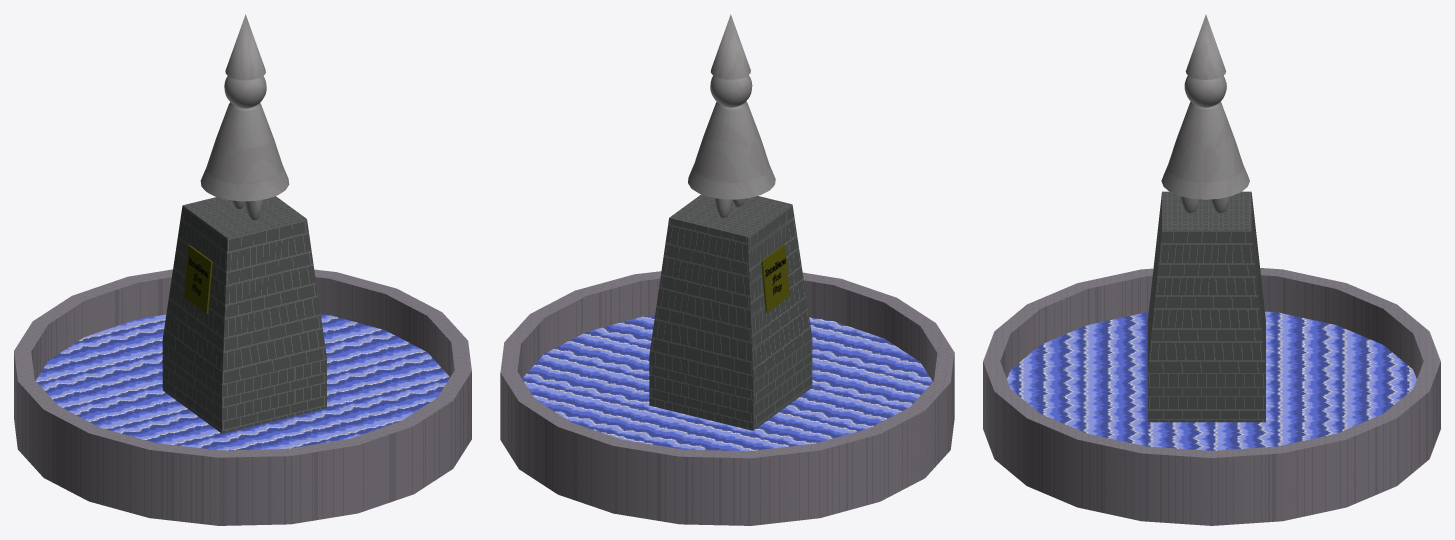
File: VilliageFountain.fbx
The picture shows the model from 3 angles, left to right: view 1: azimuth 30°, elevation 25°; view 2: azimuth 150°, elevation 25°; view 3: azimuth 270°, elevation 25°; orthographic projection.
Visible parts, largest first — view 1: FountainBase, FountainMonument, pCylinder1, StatueCloak, StatueHat, Plaque, Statue_Head; view 2: FountainBase, FountainMonument, pCylinder1, StatueCloak, StatueHat, Plaque, Statue_Head; view 3: FountainBase, pCylinder1, FountainMonument, StatueCloak, StatueHat, Statue_Head.
Boxes of the visible parts, x1,y1,x2,y2 form: FountainBase: [14, 269, 471, 525]; FountainMonument: [162, 196, 326, 433]; pCylinder1: [36, 314, 449, 450]; StatueCloak: [200, 102, 289, 201]; StatueHat: [225, 14, 265, 80]; Plaque: [184, 245, 212, 313]; Statue_Head: [224, 76, 266, 108]; FountainBase: [500, 271, 954, 525]; FountainMonument: [649, 194, 812, 430]; pCylinder1: [522, 315, 932, 450]; StatueCloak: [688, 101, 775, 199]; StatueHat: [710, 14, 750, 79]; Plaque: [761, 245, 789, 312]; Statue_Head: [710, 75, 752, 107]; FountainBase: [983, 268, 1440, 525]; pCylinder1: [1007, 311, 1416, 450]; FountainMonument: [1147, 191, 1265, 422]; StatueCloak: [1161, 101, 1249, 199]; StatueHat: [1185, 14, 1225, 79]; Statue_Head: [1184, 75, 1226, 107].
Bounding box in the file's own units: 5292 × 5527 × 5292.
Materials: 6 (4 with a texture image).
